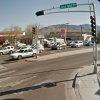Traffic light: (83, 10, 100, 47)
